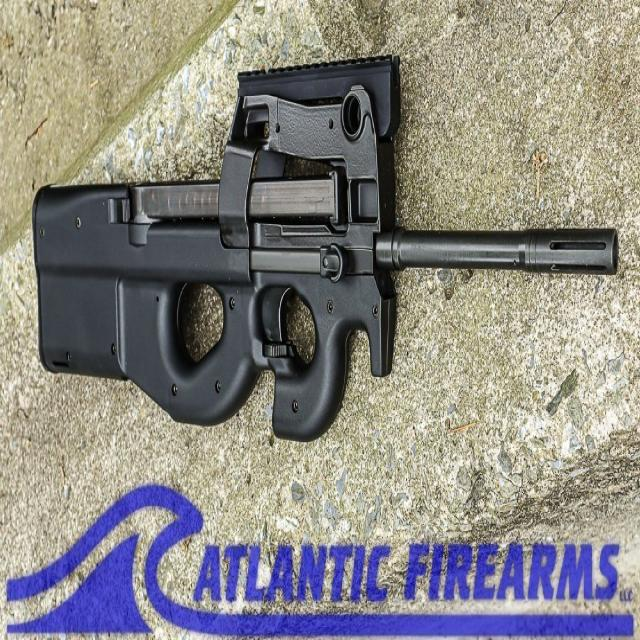SMG: (31, 56, 620, 444)
